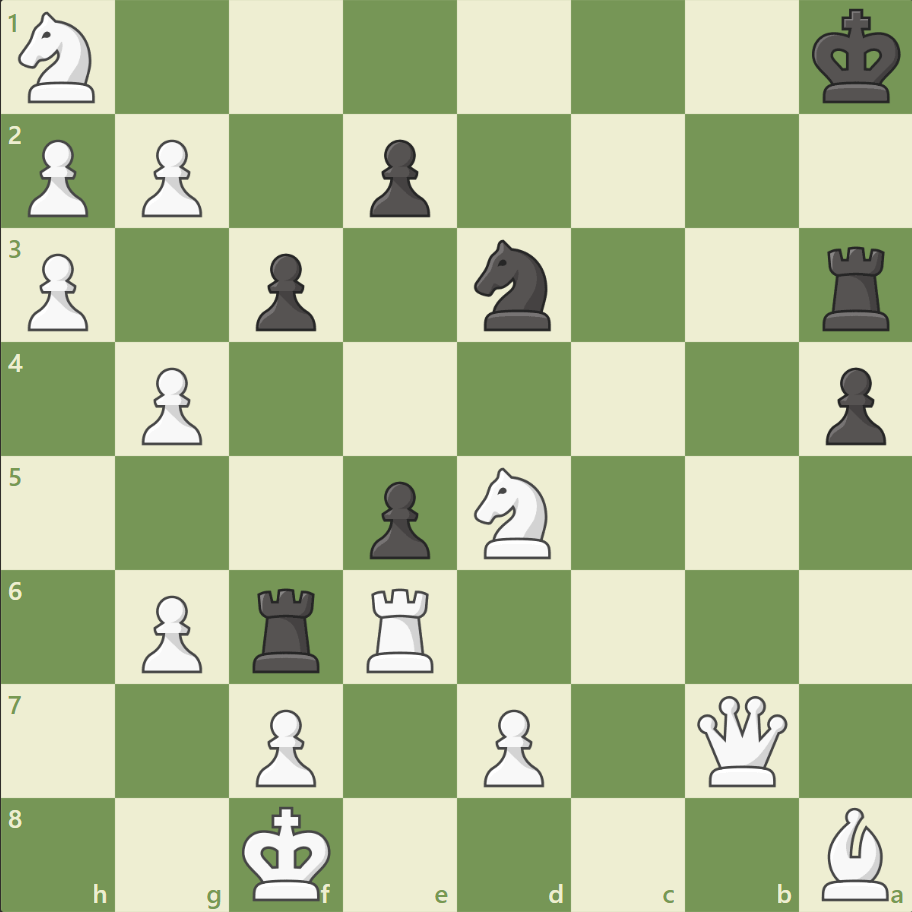B: (812, 801, 896, 904)
K: (238, 798, 338, 906)
N: (465, 461, 562, 564), (11, 7, 108, 110)
P: (474, 700, 549, 791), (247, 700, 322, 791), (133, 586, 208, 677), (133, 359, 208, 450), (20, 246, 95, 337), (133, 132, 208, 223), (20, 132, 95, 223)
Q: (691, 690, 790, 789)
R: (360, 579, 442, 676)
k: (806, 4, 906, 112)
n: (465, 234, 562, 337)
p: (247, 246, 322, 337), (361, 473, 435, 564), (815, 359, 889, 450), (361, 132, 435, 223)
r: (246, 579, 329, 676), (814, 239, 897, 336)
